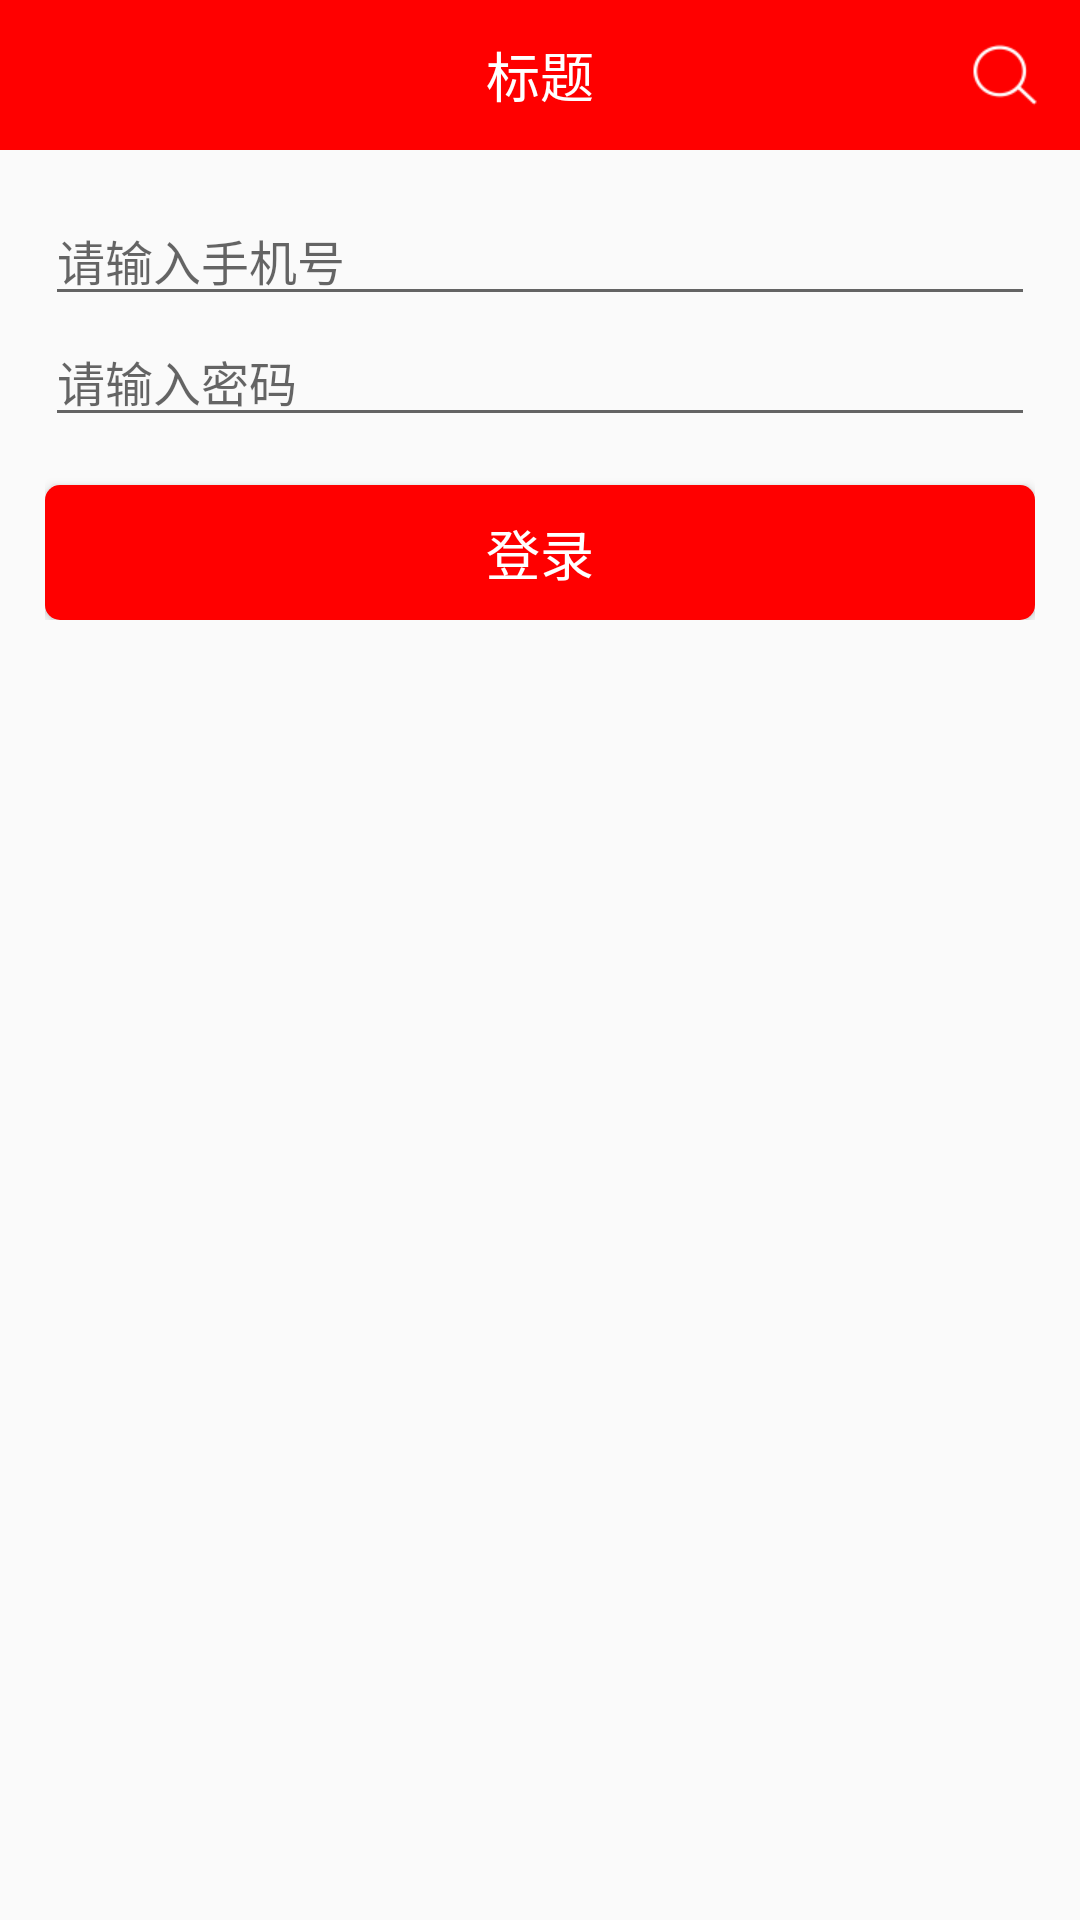

Locate icon controls on the screen. Image size 1080px x 1920px, boxes as (x1, y1, x2, y2).
search: (973, 45, 1037, 105)
